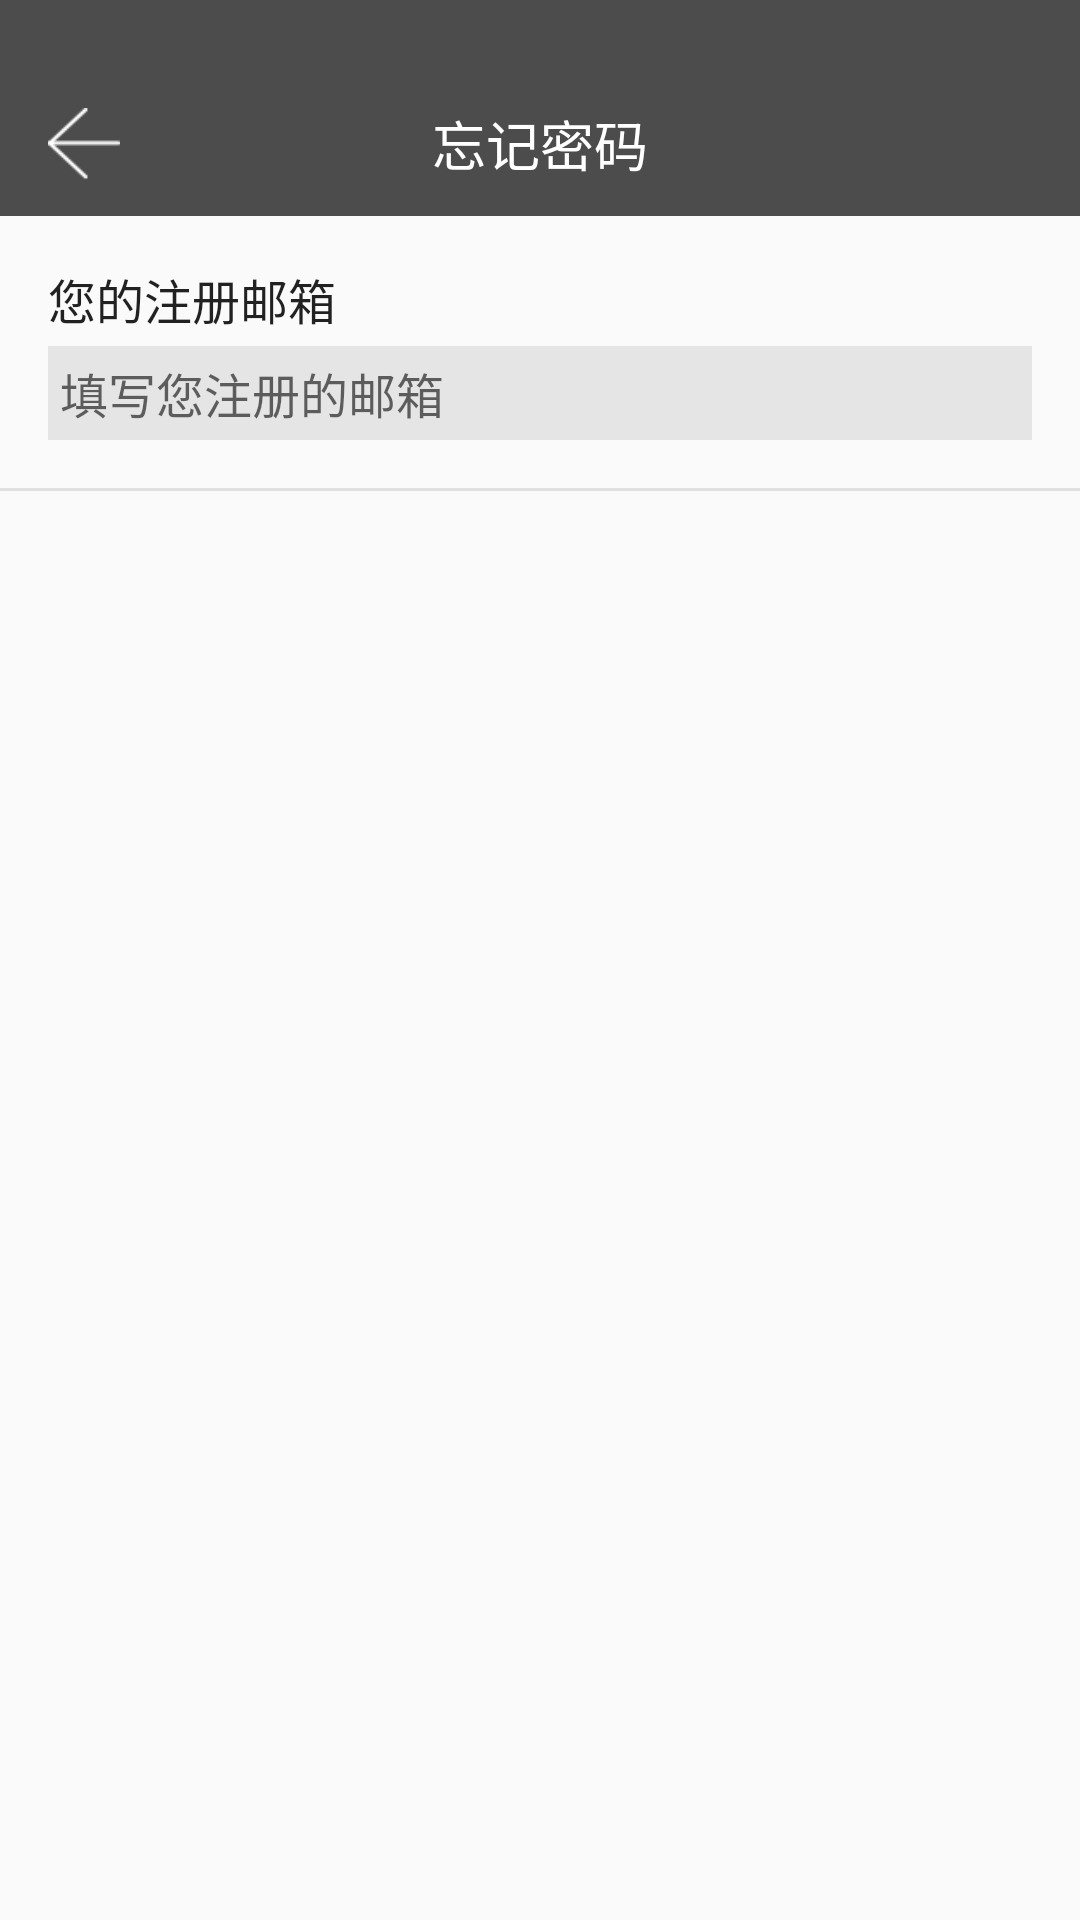

Point at icon controls on the screen. Image size 1080px×1920px, points as point (x, y).
back: point (84, 143)
